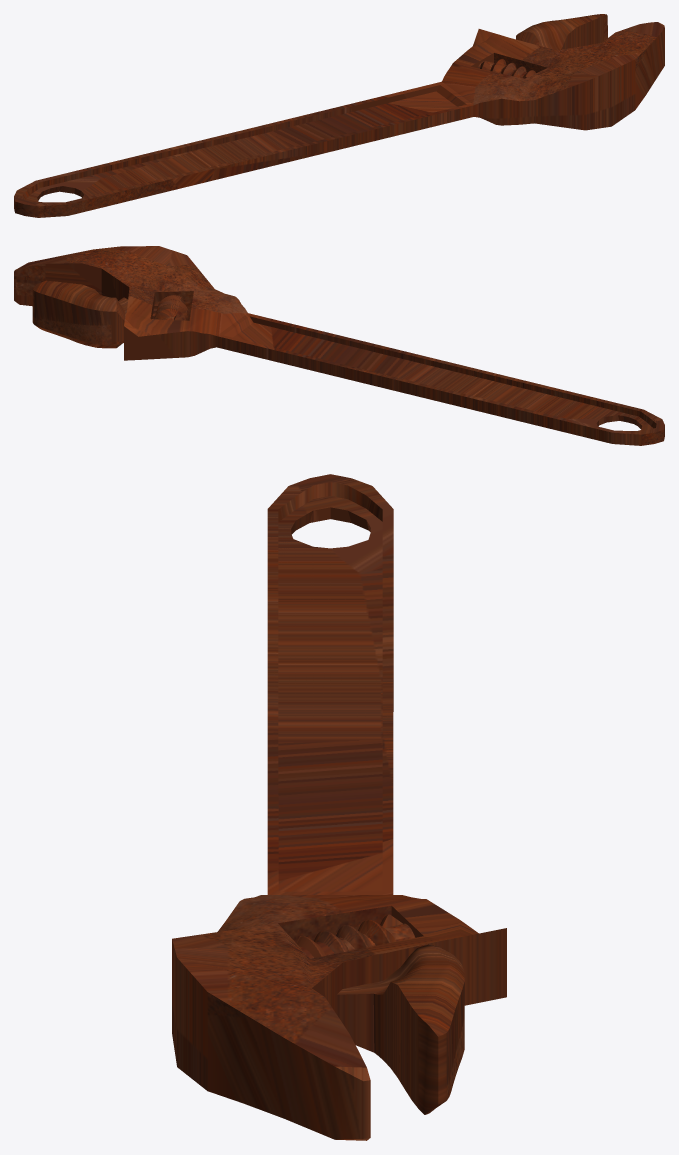
The model's file is Wrenchv2-0.fbx.
3 renders of one model, top to bottom at view 1: azimuth 30°, elevation 25°; view 2: azimuth 150°, elevation 25°; view 3: azimuth 270°, elevation 25°, orthographic. The views are drawn at different scales.
Visible parts, largest first — view 1: WrenchMesh1; view 2: WrenchMesh1; view 3: WrenchMesh1.
Boxes of the visible parts, x1=… form: WrenchMesh1: x1=14, y1=14, x2=664, y2=217; WrenchMesh1: x1=14, y1=246, x2=664, y2=445; WrenchMesh1: x1=172, y1=474, x2=506, y2=1140.
Bounding box in the file's own units: 20.42 × 1.67 × 4.62.
